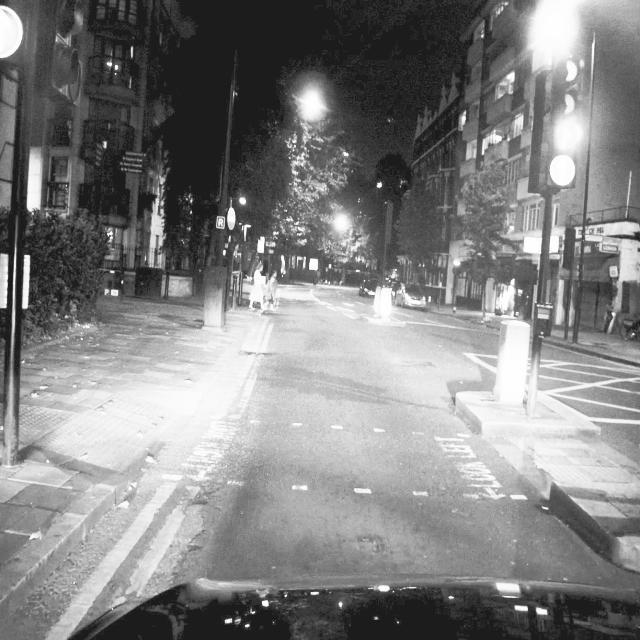Light: (52, 0, 86, 110), (552, 53, 584, 153)
